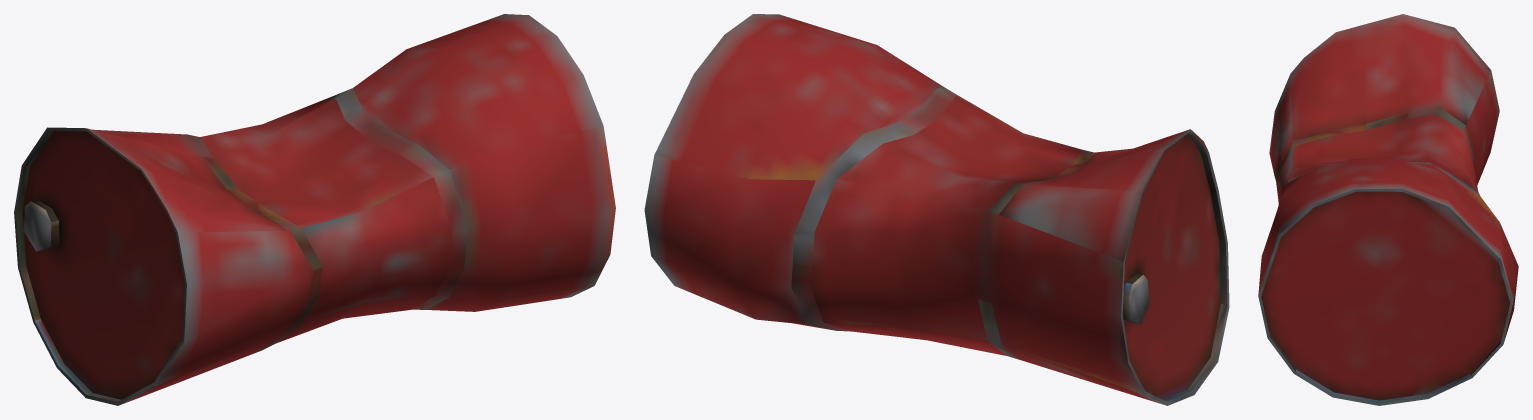
File: junk_04-v1.glb
3 renders of one model, left to right at view 1: azimuth 30°, elevation 25°; view 2: azimuth 150°, elevation 25°; view 3: azimuth 270°, elevation 25°, orthographic. The views are drawn at different scales.
Visible parts, largest first — view 1: junk_04; view 2: junk_04; view 3: junk_04.
Part boxes in pixels (x1,y1,x2,y2): junk_04: [14, 14, 615, 405]; junk_04: [644, 14, 1229, 405]; junk_04: [1258, 14, 1518, 405].
Size of the model in its own units: 1.76 by 0.9318 by 1.01.
1 material, 1 textured.
